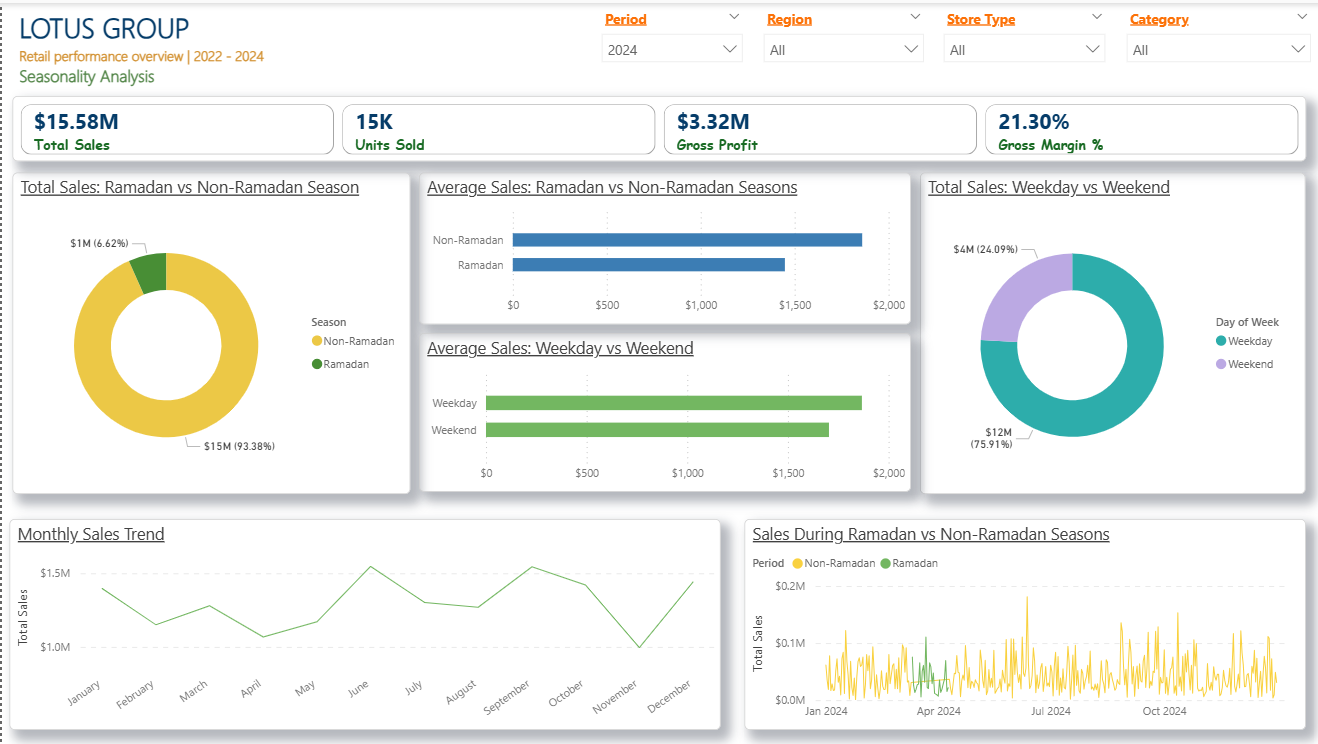

The dashboard page shown, as its layout file describes it:
{"tool":"powerbi","page":{"name":"Seasonality","canvas":[1280,720],"ordinal":5},"visuals":[{"type":"textbox","box":[11.8,0,280,90.6],"z":0},{"type":"slicer","fields":{"Values":["dim_stores.region"]},"box":[728.9,0,175.3,60.5],"z":1000},{"type":"cardVisual","fields":{"Data":["_Measures.Total Sales","_Measures.Units Sold","_Measures.Gross Profit","_Measures.Gross Margin %"]},"box":[10.6,90.6,1255.3,63.5],"z":2000},{"type":"lineChart","title":"Monthly Sales Trend","fields":{"Y":["_Measures.Total Sales"],"Category":["dim_date.full_date.Variation.Date Hierarchy.Month"]},"box":[7.8,500.9,690.1,204.7],"z":3000},{"type":"donutChart","title":"Total Sales: Ramadan vs Non-Ramadan Season","fields":{"Category":["dim_date.Period Type"],"Y":["_Measures.Total Sales"]},"box":[10.9,164.4,386.2,311.7],"z":4000},{"type":"donutChart","title":"Total Sales: Weekday vs Weekend","fields":{"Category":["dim_date.Day Type"],"Y":["_Measures.Total Sales"]},"box":[890.6,164.6,374.3,311.9],"z":5000},{"type":"clusteredBarChart","title":"Average Sales: Ramadan vs Non-Ramadan Seasons","fields":{"Category":["dim_date.Period Type"],"Y":["_Measures.Average Sales"]},"box":[404.7,164.7,477.6,147.1],"z":6000},{"type":"clusteredBarChart","title":"Average Sales: Weekday vs Weekend","fields":{"Category":["dim_date.Day Type"],"Y":["_Measures.Average Sales"]},"box":[404.7,320,477.6,154.1],"z":7000},{"type":"lineChart","title":"Sales During Ramadan vs Non-Ramadan Seasons","fields":{"Series":["dim_date.Period Type"],"Category":["dim_date.full_date.Variation.Date Hierarchy.Year","dim_date.full_date.Variation.Date Hierarchy.Quarter","dim_date.full_date.Variation.Date Hierarchy.Month","dim_date.full_date.Variation.Date Hierarchy.Day"],"Y":["_Measures.Total Sales"]},"box":[721.2,500.9,544.4,204.7],"z":8000},{"type":"slicer","fields":{"Values":["dim_products.category"]},"box":[1081,0,198.5,60.5],"z":9000},{"type":"slicer","fields":{"Values":["dim_stores.store_type"]},"box":[904.2,0,176.8,60.5],"z":10000},{"type":"slicer","fields":{"Values":["dim_date.full_date.Variation.Date Hierarchy.Year","dim_date.full_date.Variation.Date Hierarchy.Quarter"]},"box":[572.3,0,156.6,60.5],"z":10001}]}

Visuals, with their boxes in screenshot pixels (x1, y1, x2, y2), scaled from the page's 1280x720 canvas onto the 1318x744 screenshot:
textbox: <bbox>12, 0, 300, 94</bbox>
slicer - dim_stores.region: <bbox>751, 0, 931, 63</bbox>
cardVisual - _Measures.Total Sales x _Measures.Units Sold: <bbox>11, 94, 1303, 159</bbox>
"Monthly Sales Trend" lineChart: <bbox>8, 518, 719, 729</bbox>
"Total Sales: Ramadan vs Non-Ramadan Season" donutChart: <bbox>11, 170, 409, 492</bbox>
"Total Sales: Weekday vs Weekend" donutChart: <bbox>917, 170, 1302, 492</bbox>
"Average Sales: Ramadan vs Non-Ramadan Seasons" clusteredBarChart: <bbox>417, 170, 908, 322</bbox>
"Average Sales: Weekday vs Weekend" clusteredBarChart: <bbox>417, 331, 908, 490</bbox>
"Sales During Ramadan vs Non-Ramadan Seasons" lineChart: <bbox>743, 518, 1303, 729</bbox>
slicer - dim_products.category: <bbox>1113, 0, 1317, 63</bbox>
slicer - dim_stores.store_type: <bbox>931, 0, 1113, 63</bbox>
slicer - dim_date.full_date.Variation.Date Hierarchy.Year x dim_date.full_date.Variation.Date Hierarchy.Quarter: <bbox>589, 0, 751, 63</bbox>
